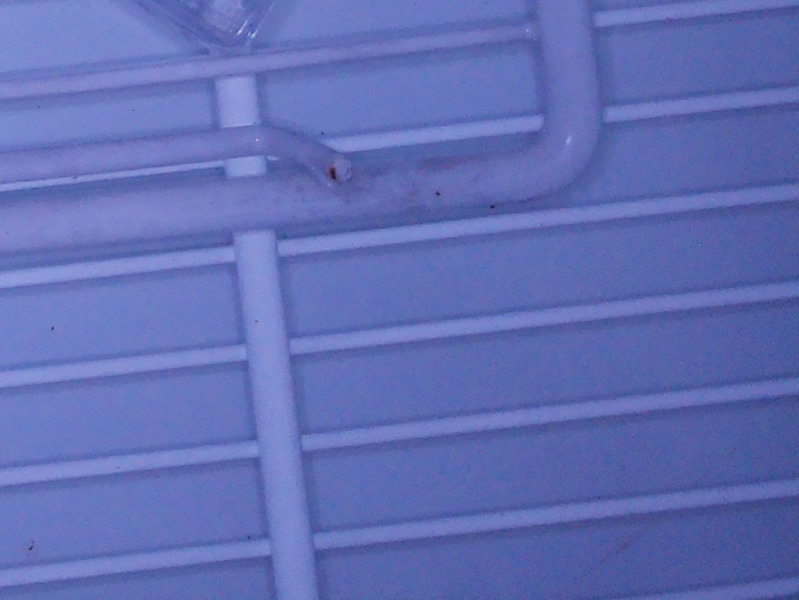plate: (134, 1, 283, 57)
